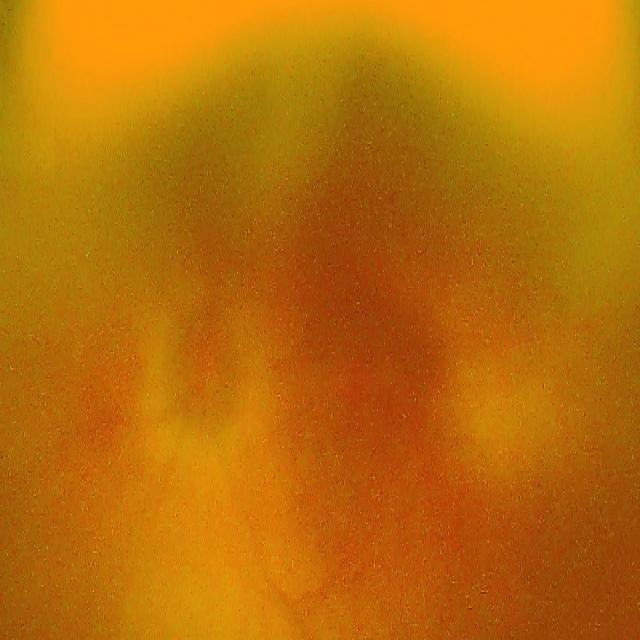optic-nerve: (146, 266, 268, 468)
